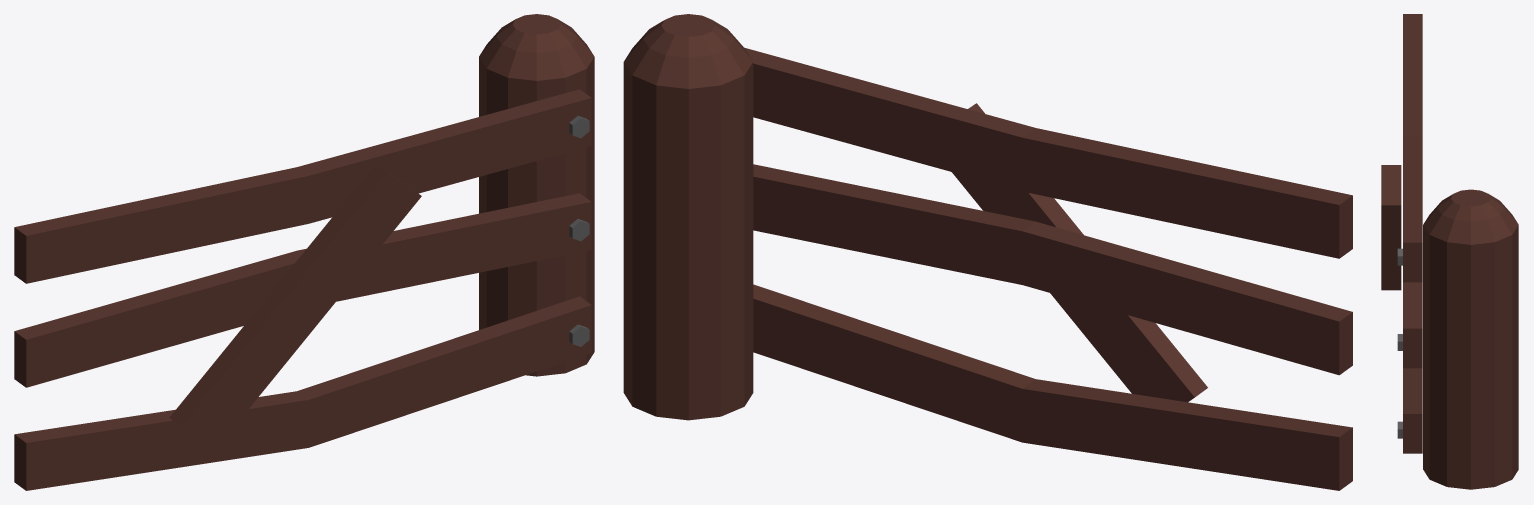
The model's file is fence_variation.fbx.
The picture shows the model from 3 angles, left to right: view 1: azimuth 30°, elevation 25°; view 2: azimuth 150°, elevation 25°; view 3: azimuth 270°, elevation 25°; orthographic projection. The views are drawn at different scales.
Visible parts, largest first — view 1: Cylinder; view 2: Cylinder; view 3: Cylinder.
Part boxes in pixels (x1,y1,x2,y2): Cylinder: [14, 14, 594, 490]; Cylinder: [623, 14, 1352, 490]; Cylinder: [1381, 14, 1518, 489].
Size of the model in its own units: 481 by 252 by 115.
